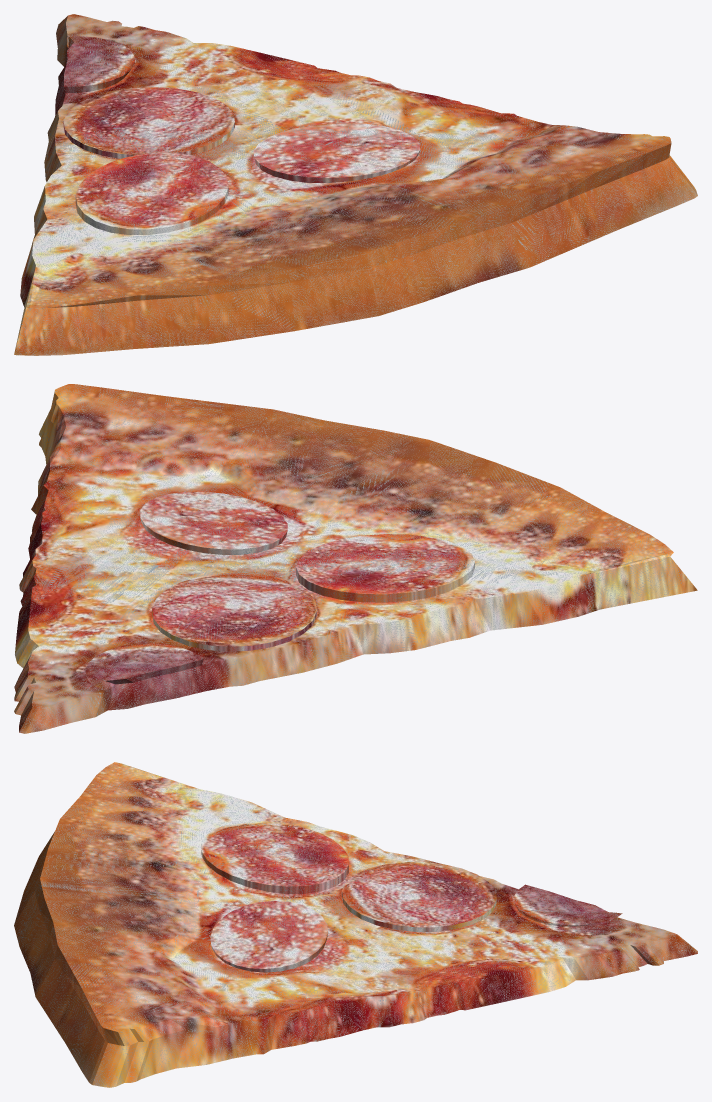
3 views of the same model, one above another, from view 1: azimuth 30°, elevation 25°; view 2: azimuth 150°, elevation 25°; view 3: azimuth 270°, elevation 25° (orthographic). The views are drawn at different scales.
Parts seen in each view (by area): view 1: PizzaSlice (×2), Pepperoni, Pepperoni2; view 2: PizzaSlice (×2), Pepperoni, Pepperoni2; view 3: PizzaSlice (×2), Pepperoni, Pepperoni2.
Part boxes in pixels (x1,y1,x2,y2): PizzaSlice (×2): (14,14,697,355); Pepperoni: (63,87,234,158); Pepperoni2: (253,123,420,182); PizzaSlice (×2): (14,384,697,733); Pepperoni: (152,572,316,651); Pepperoni2: (140,491,287,554); PizzaSlice (×2): (14,762,697,1087); Pepperoni: (342,862,496,931); Pepperoni2: (210,901,327,972).
Bounding box in the file's own units: 7.01 × 6.74 × 0.5312.
2 materials, 1 textured.
